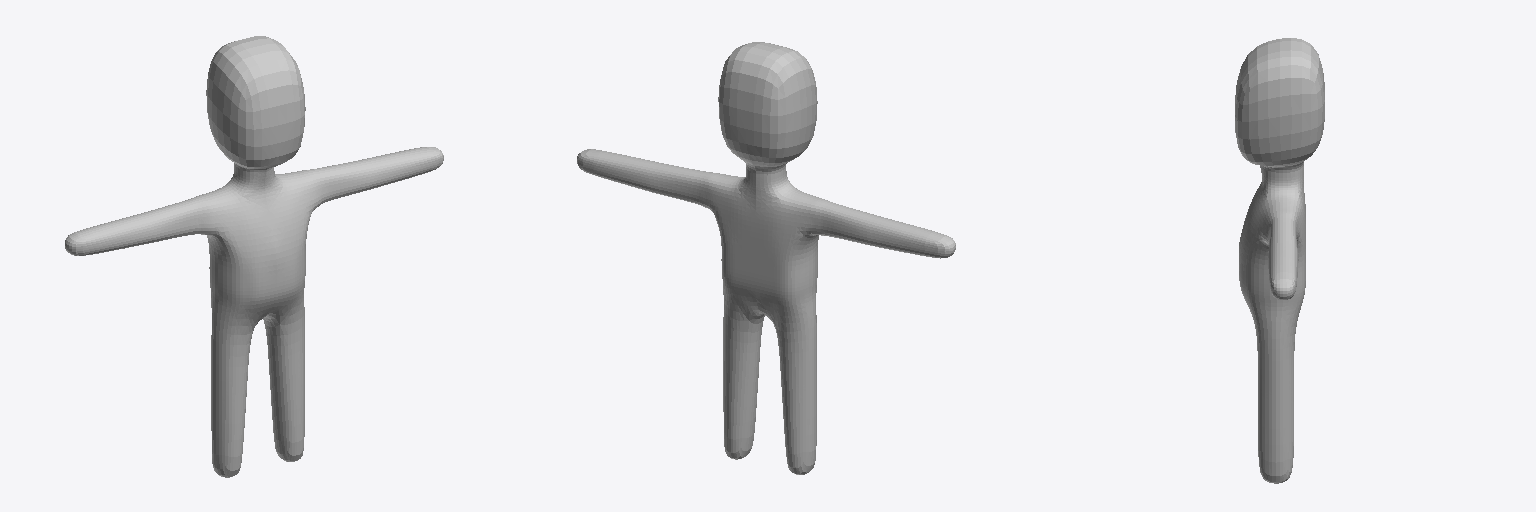
The model's file is Character.obj.
3 views of the same model, side by side, from view 1: azimuth 30°, elevation 25°; view 2: azimuth 150°, elevation 25°; view 3: azimuth 270°, elevation 25° (orthographic).
Parts seen in each view (by area): view 1: Cube; view 2: Cube; view 3: Cube.
Boxes of the visible parts, x1,y1,x2,y2 form: Cube: [65, 36, 443, 477]; Cube: [577, 42, 955, 474]; Cube: [1235, 38, 1324, 483].
Bounding box in the file's own units: 6.54 × 7 × 1.37.